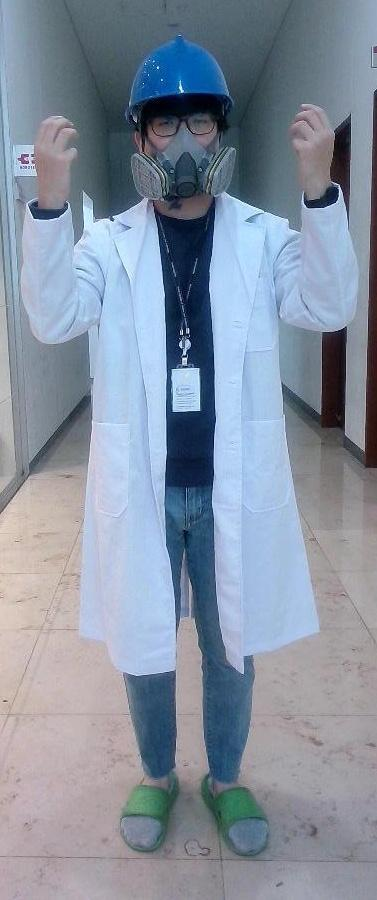lab_coat: (69, 210, 306, 657)
